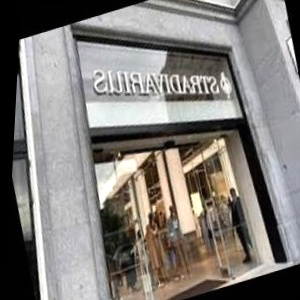stradivarius: (202, 34, 275, 98)
